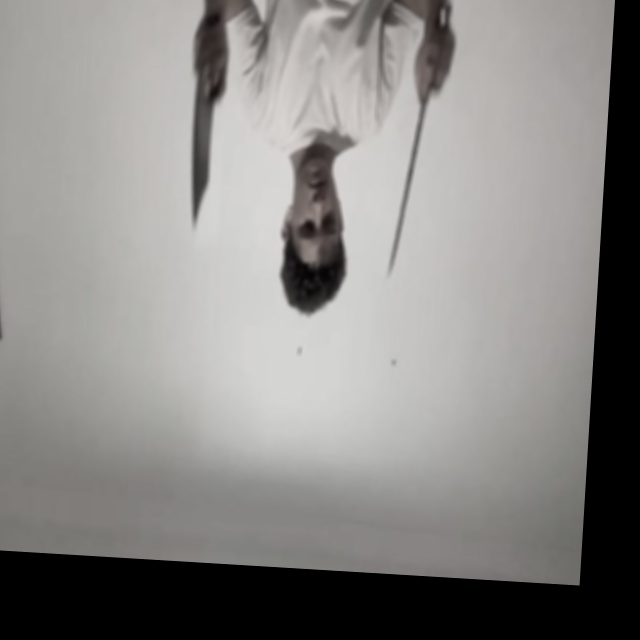Sharp-Object: (389, 105, 423, 274), (187, 80, 215, 230)
